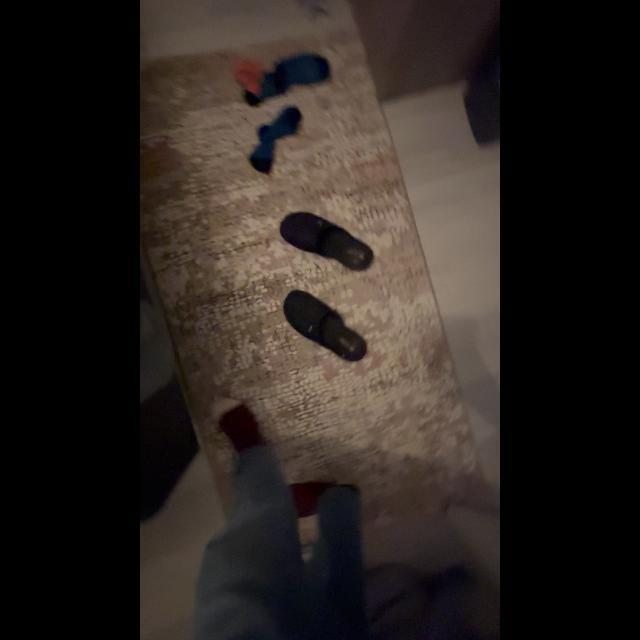slipper: (276, 205, 388, 279), (281, 285, 374, 369)
